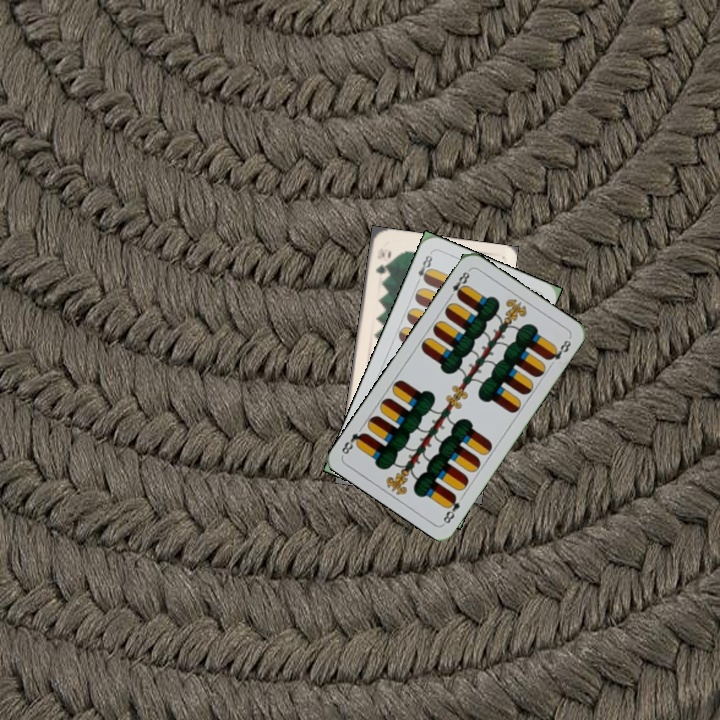E8: (445, 266, 473, 302), (439, 490, 463, 526), (412, 251, 435, 288)
G10: (372, 248, 390, 277)
